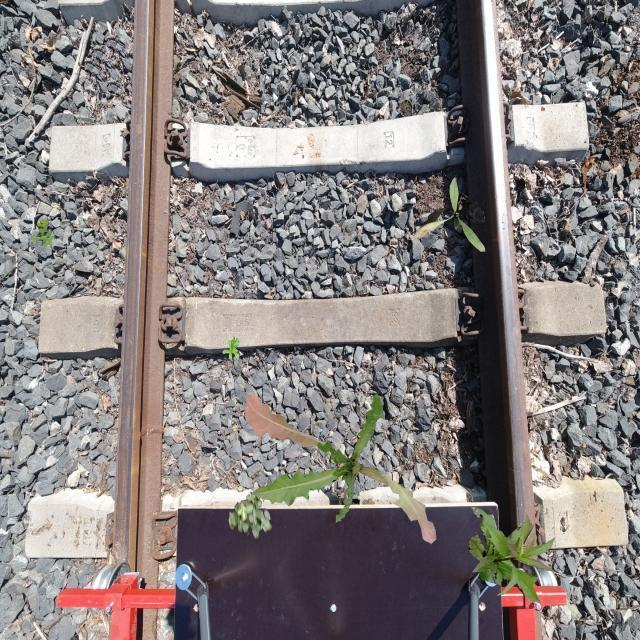Plant: (244, 392, 436, 544), (469, 506, 558, 604), (414, 177, 486, 252), (228, 489, 272, 539), (31, 218, 55, 248), (222, 337, 240, 361)
